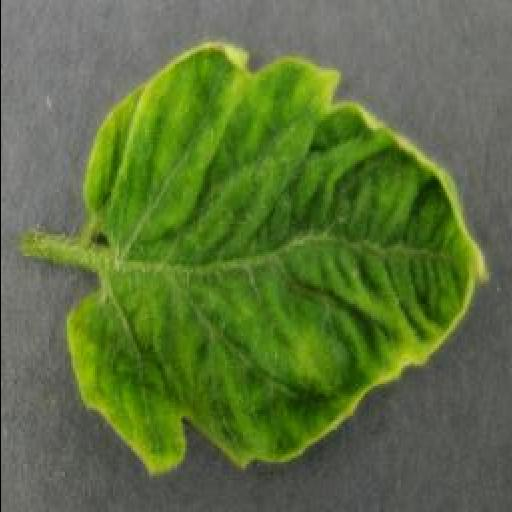disease_tomato: (62, 44, 484, 474)
